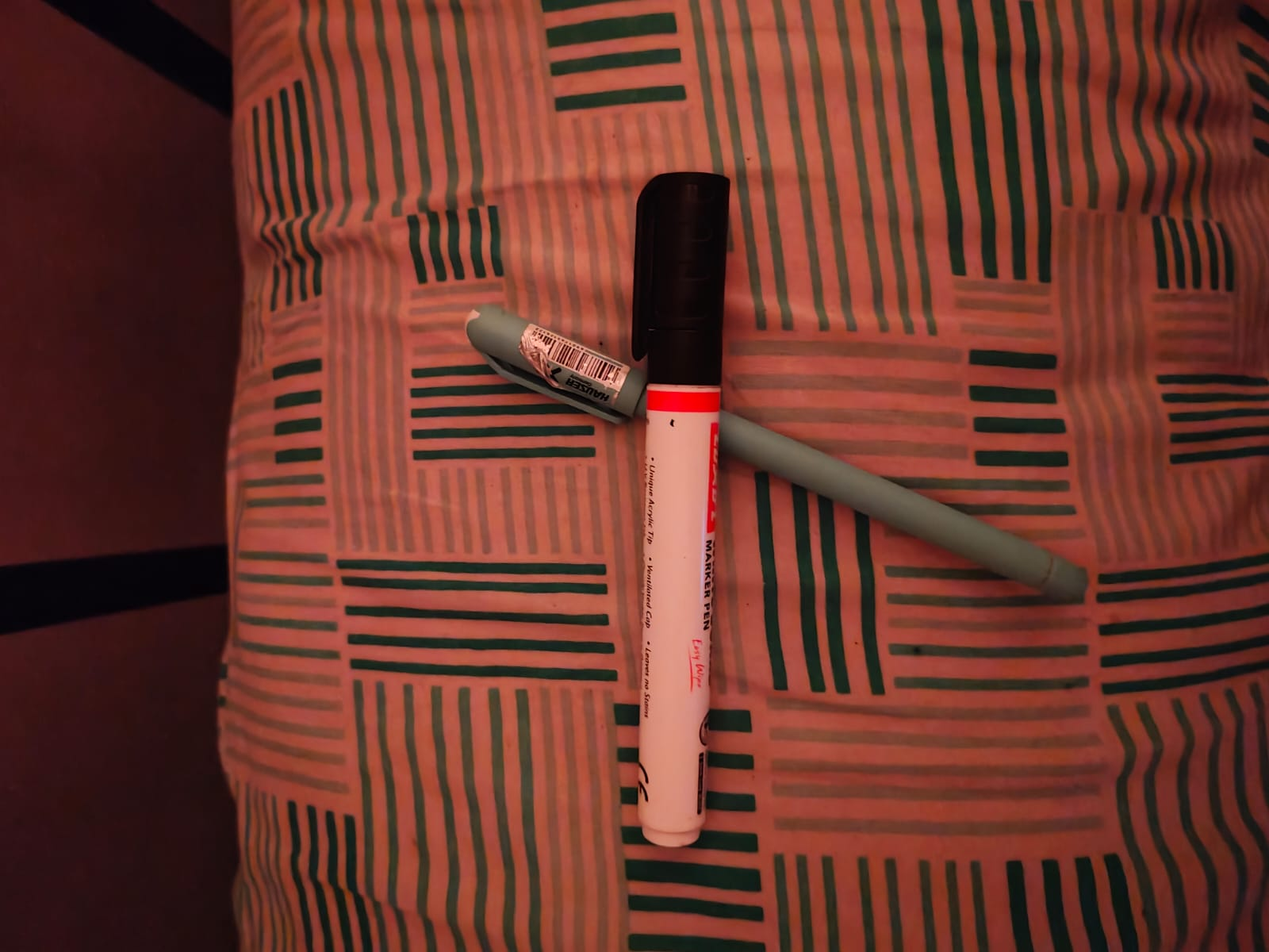case: (640, 166, 732, 852)
pen: (464, 305, 1084, 607)
